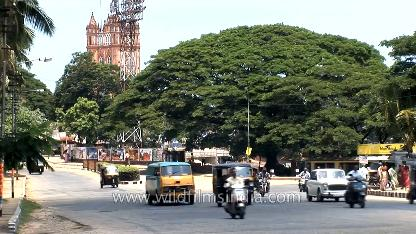auto-rikshaw: (212, 162, 256, 206), (98, 164, 122, 188)
bike: (222, 169, 250, 221), (343, 163, 370, 209), (254, 164, 274, 200)
car: (140, 158, 198, 210), (306, 170, 352, 202)
